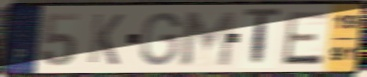5: (41, 11, 81, 69)
E: (280, 9, 331, 67)
G: (138, 10, 184, 68)
K: (86, 12, 126, 68)
M: (180, 9, 238, 68)
T: (242, 6, 283, 70)
